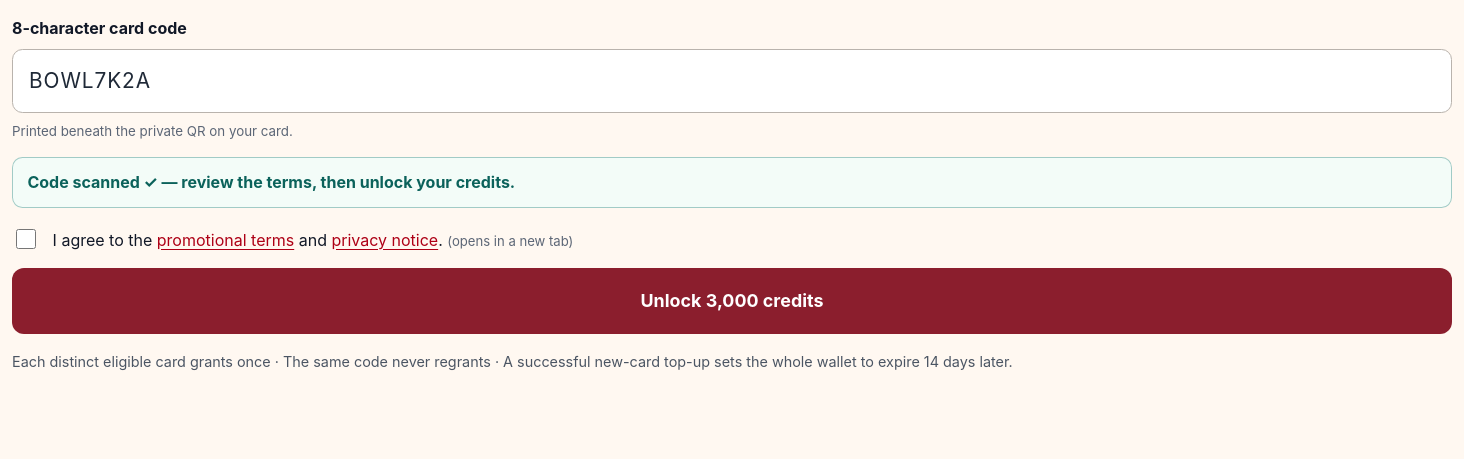
it: RedeemForm › does not present an origin rejection as a Turnstile failure
Click the checkbox named "termsAccepted" at [26, 239], box left=16, top=229, right=36, bottom=249
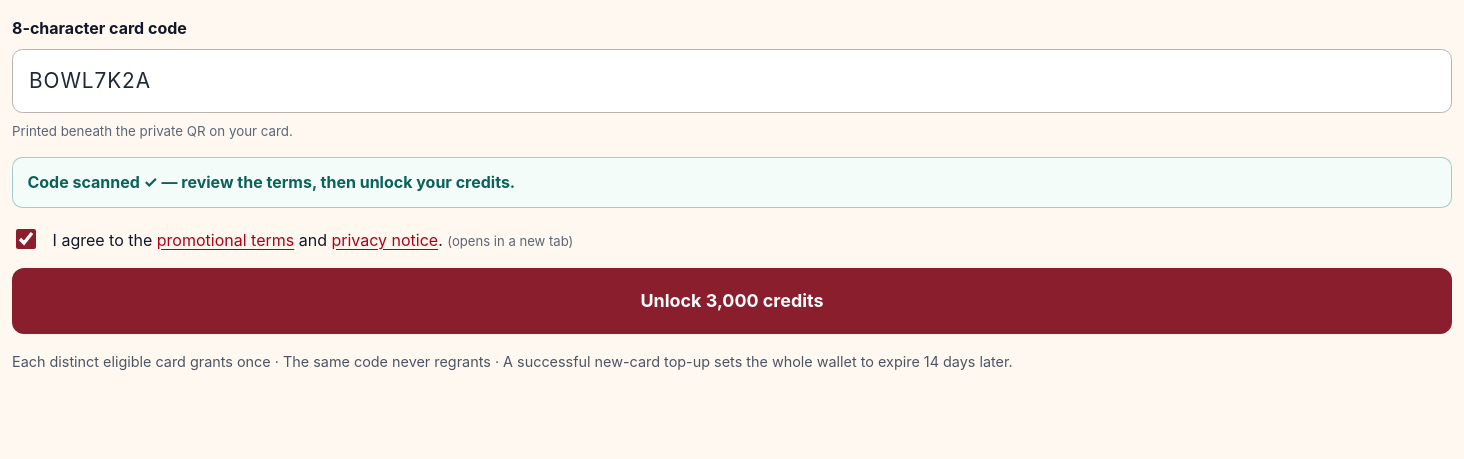
Submit the form
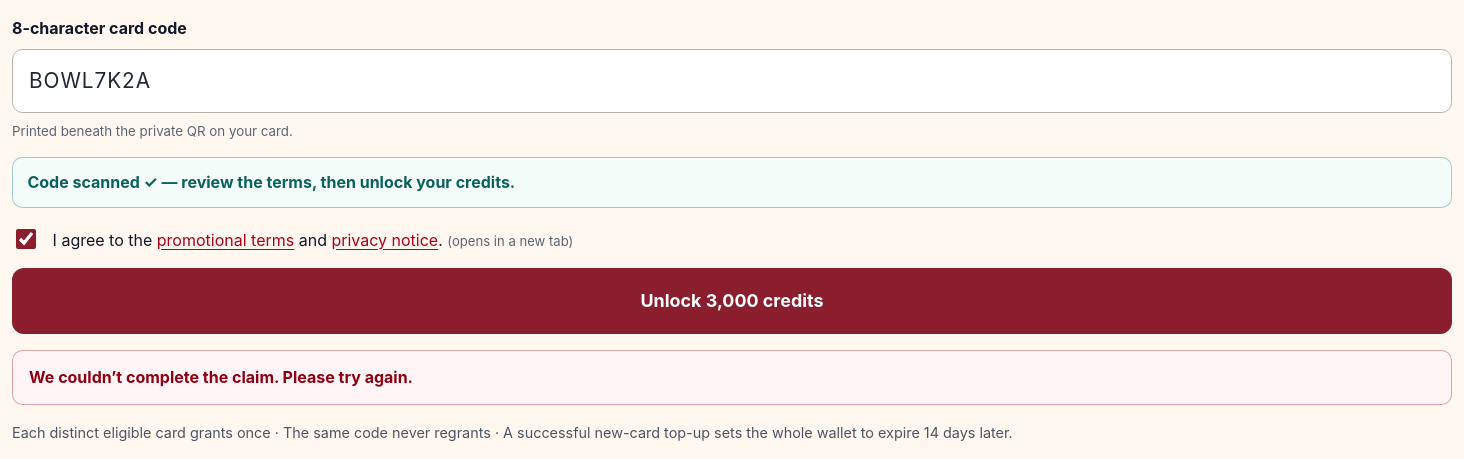
Check: the text "We couldn’t complete the claim. Please try again." is shown, box left=29, top=365, right=413, bottom=389
